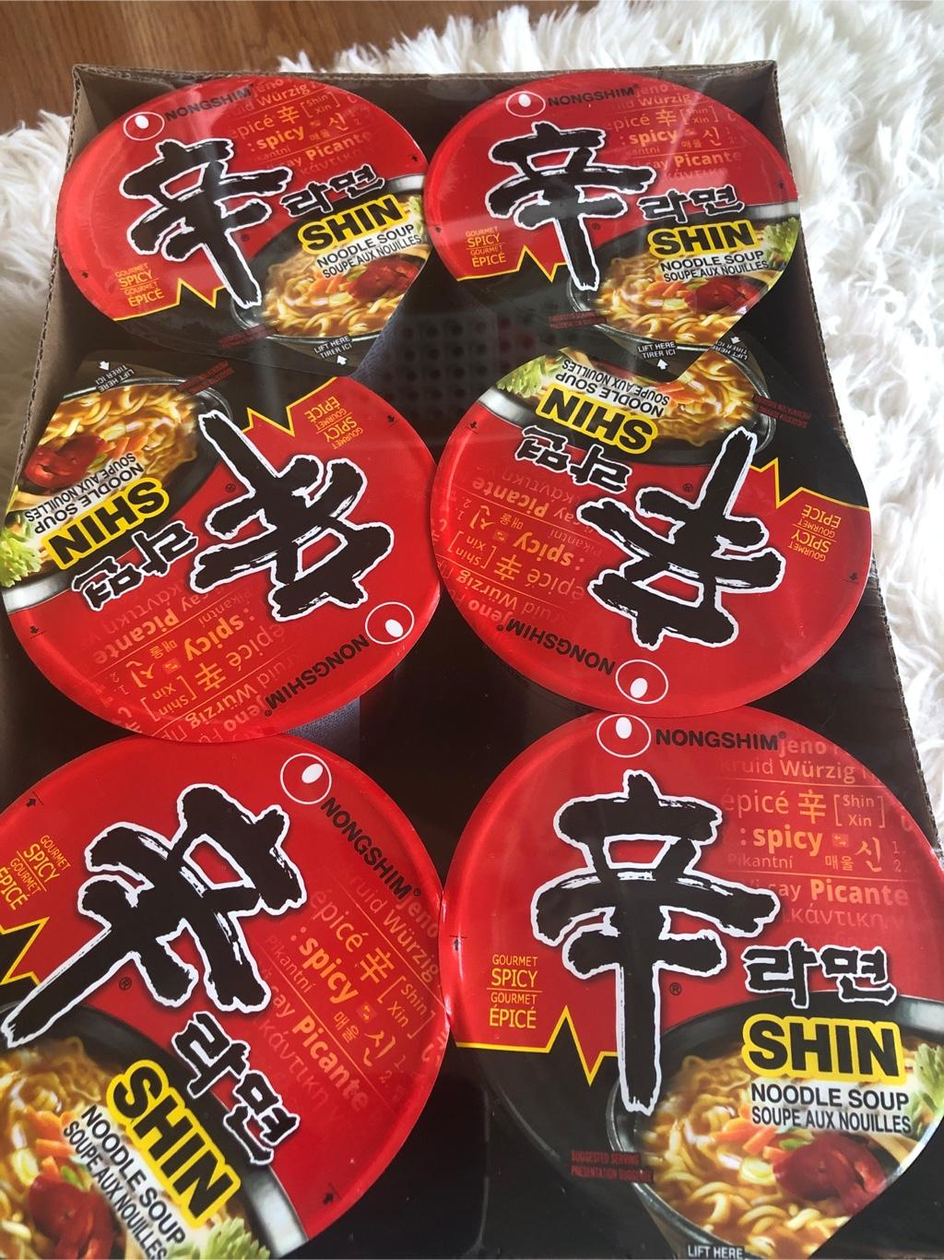instant_noodle: (448, 716, 944, 1260), (13, 734, 450, 1260), (19, 351, 443, 736), (443, 370, 885, 707), (414, 77, 813, 358), (64, 84, 422, 373)
